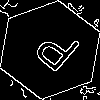P: (25, 25, 83, 82)
